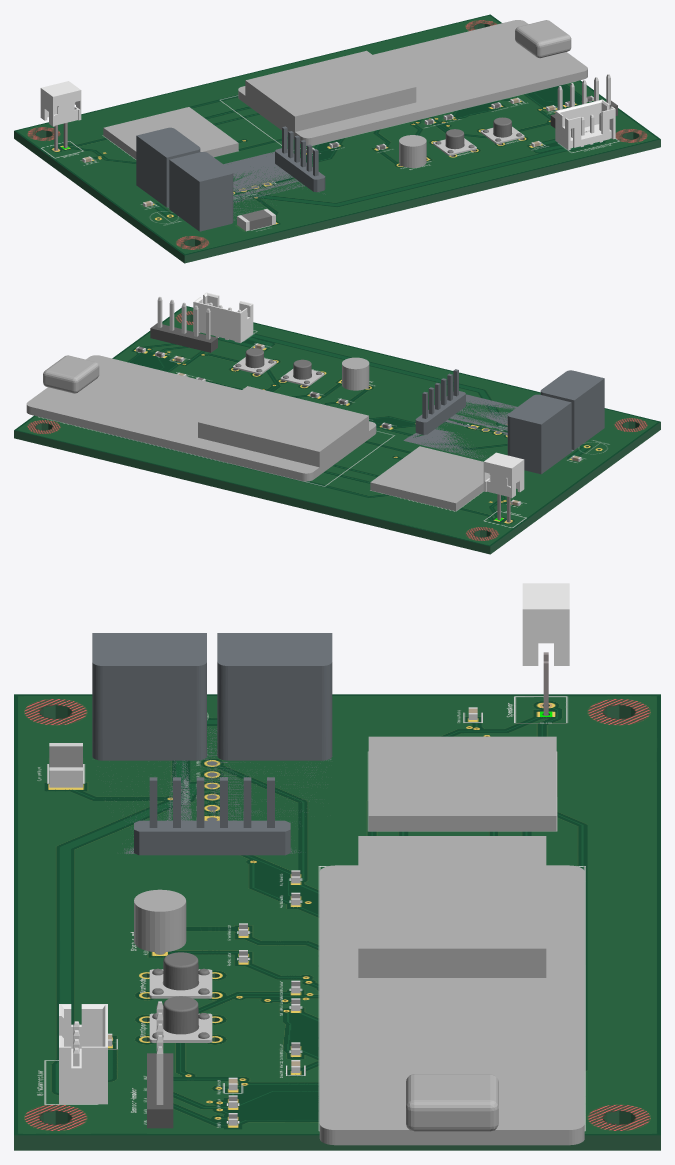
The model's file is board.glb.
3 renders of one model, top to bottom at view 1: azimuth 30°, elevation 25°; view 2: azimuth 150°, elevation 25°; view 3: azimuth 270°, elevation 25°, orthographic. The views are drawn at different scales.
Parts seen in each view (by area): view 1: Box0, Mcu, MotorDriver, AudioAmp, BinConnector, Speaker, StatusLed, SensorHeader, BtnOpen, BtnMode, CurrentShunt; view 2: Box0, Mcu, MotorDriver, AudioAmp, BinConnector, SensorHeader, Speaker, StatusLed, BtnMode, BtnOpen; view 3: Box0, Mcu, MotorDriver, AudioAmp, BinConnector, Speaker, StatusLed, SensorHeader, BtnMode, BtnOpen, CurrentShunt.
Part boxes in pixels (x1=…): Box0: x1=14, y1=14, x2=660, y2=263; Mcu: x1=238, y1=20, x2=587, y2=145; MotorDriver: x1=136, y1=126, x2=325, y2=231; AudioAmp: x1=103, y1=107, x2=238, y2=159; BinConnector: x1=555, y1=99, x2=615, y2=150; Speaker: x1=40, y1=81, x2=81, y2=151; StatusLed: x1=399, y1=135, x2=426, y2=167; SensorHeader: x1=550, y1=74, x2=617, y2=128; BtnOpen: x1=480, y1=117, x2=524, y2=145; BtnMode: x1=433, y1=129, x2=476, y2=156; CurrentShunt: x1=237, y1=209, x2=275, y2=231; Box0: x1=14, y1=306, x2=660, y2=554; Mcu: x1=26, y1=355, x2=376, y2=481; MotorDriver: x1=403, y1=369, x2=604, y2=474; AudioAmp: x1=370, y1=446, x2=490, y2=511; BinConnector: x1=193, y1=292, x2=253, y2=343; SensorHeader: x1=150, y1=296, x2=217, y2=352; Speaker: x1=483, y1=452, x2=524, y2=522; StatusLed: x1=342, y1=357, x2=369, y2=390; BtnMode: x1=280, y1=359, x2=324, y2=387; BtnOpen: x1=233, y1=348, x2=276, y2=375; Box0: x1=14, y1=694, x2=660, y2=1150; Mcu: x1=319, y1=836, x2=584, y2=1145; MotorDriver: x1=92, y1=633, x2=332, y2=855; AudioAmp: x1=368, y1=736, x2=556, y2=831; BinConnector: x1=59, y1=1004, x2=107, y2=1104; Speaker: x1=522, y1=583, x2=569, y2=716; StatusLed: x1=134, y1=889, x2=186, y2=954; SensorHeader: x1=147, y1=1001, x2=173, y2=1128; BtnMode: x1=149, y1=952, x2=212, y2=998; BtnOpen: x1=149, y1=996, x2=212, y2=1042; CurrentShunt: x1=49, y1=743, x2=82, y2=787.
Size of the model in its own units: 103 by 18.7 by 62.
19 materials, 2 textured.
